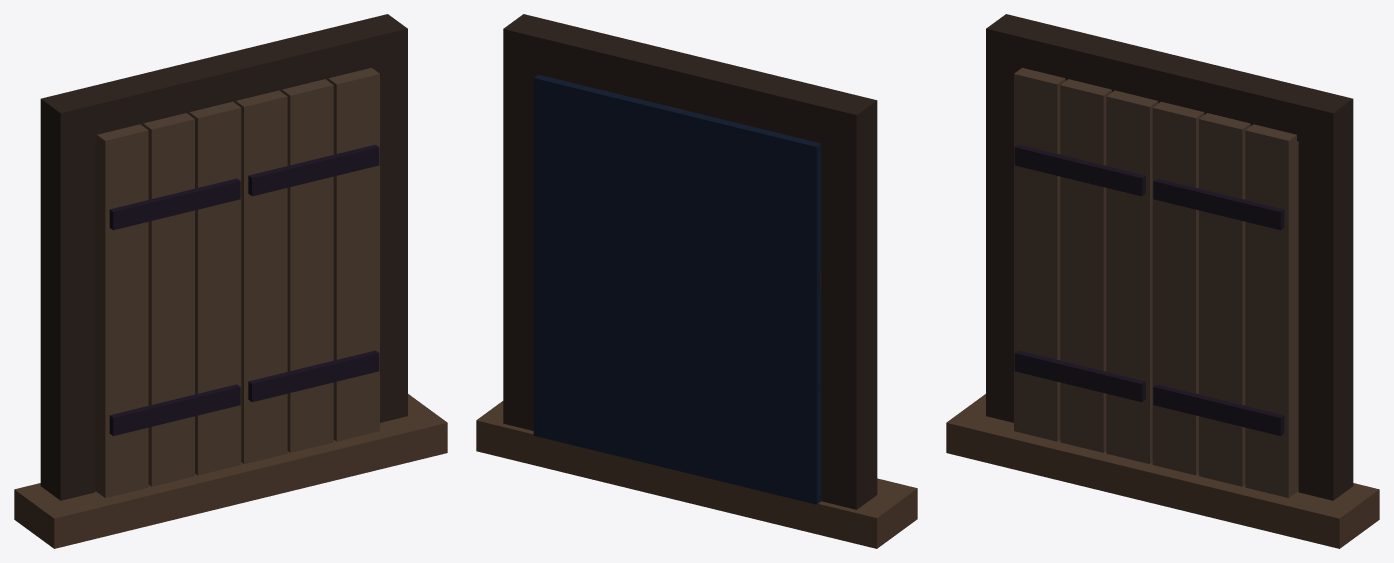
Rendered from kit_timber_window_shut.glb.
The picture shows the model from 3 angles, left to right: view 1: azimuth 30°, elevation 25°; view 2: azimuth 150°, elevation 25°; view 3: azimuth 330°, elevation 25°; orthographic projection.
Visible parts, largest first — view 1: kit_timber_window_shut; view 2: kit_timber_window_shut; view 3: kit_timber_window_shut.
Part boxes in pixels (x1,y1,x2,y2): kit_timber_window_shut: (14, 14, 447, 548); kit_timber_window_shut: (476, 14, 917, 548); kit_timber_window_shut: (946, 14, 1379, 548).
Size of the model in its own units: 0.68 by 0.69 by 0.124.
